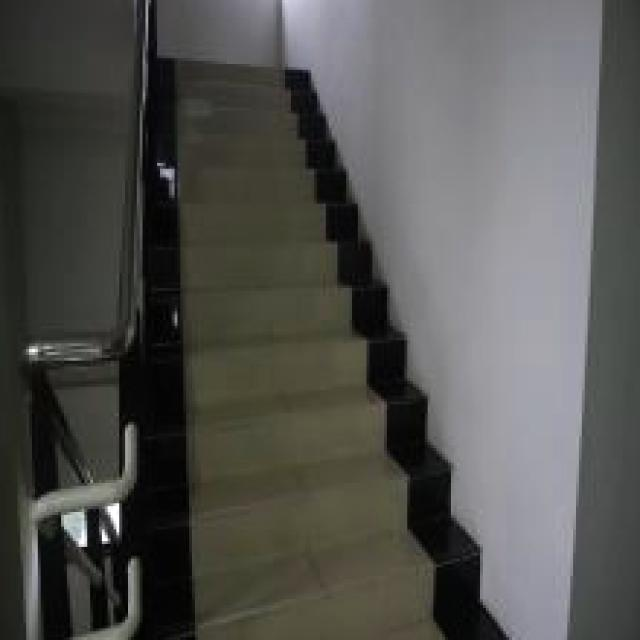upstair: (150, 170, 348, 597)
